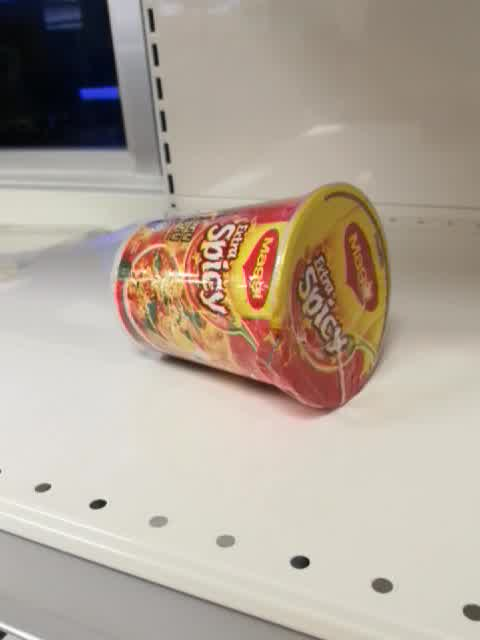maggi: (108, 182, 392, 414)
